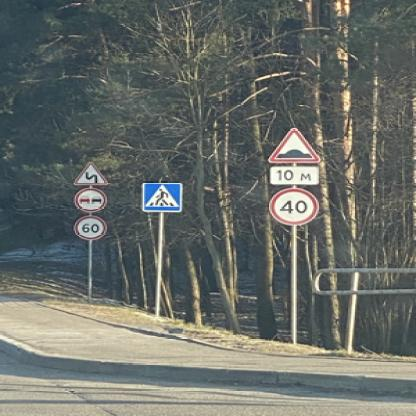Speed Limit 40: (270, 187, 318, 226)
Speed Limit 60: (76, 214, 106, 240)
